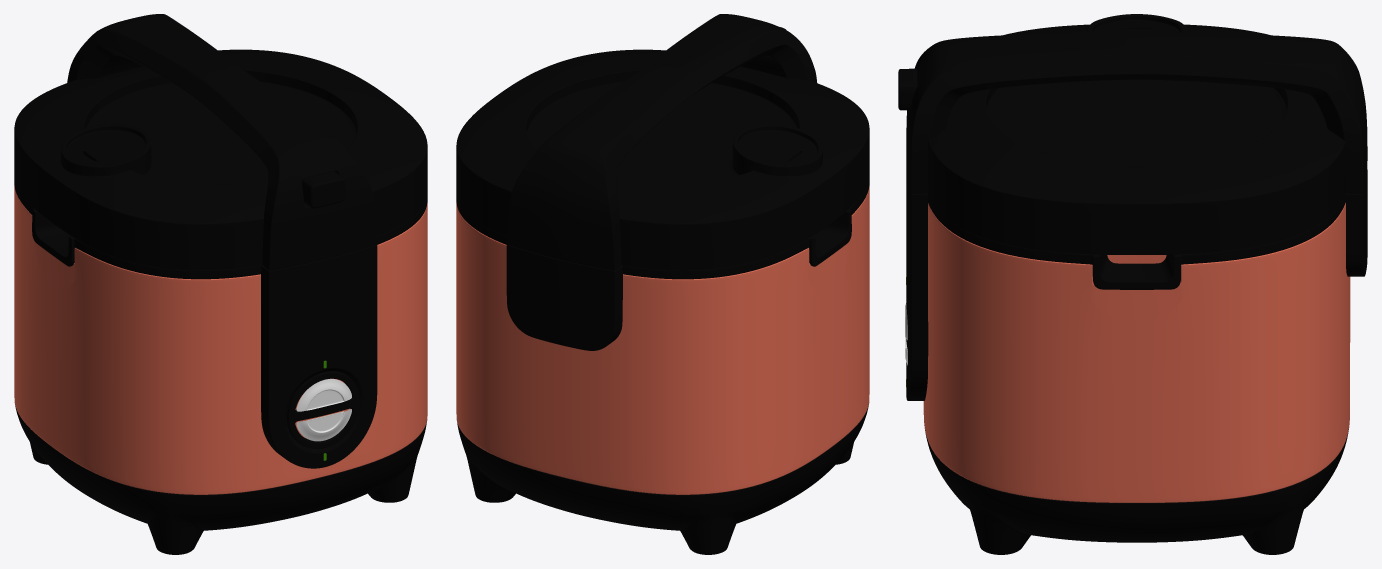
The model's file is rice_cooker.glb.
3 views of the same model, side by side, from view 1: azimuth 30°, elevation 25°; view 2: azimuth 150°, elevation 25°; view 3: azimuth 270°, elevation 25° (orthographic). The views are drawn at different scales.
Parts seen in each view (by area): view 1: rice-cooker.001; view 2: rice-cooker.001; view 3: rice-cooker.001.
Boxes of the visible parts, box(x1,y1,x2,y2) form: rice-cooker.001: box(14, 14, 427, 554); rice-cooker.001: box(456, 14, 869, 554); rice-cooker.001: box(898, 14, 1367, 554).
Size of the model in its own units: 26.43 by 30.04 by 28.67.
